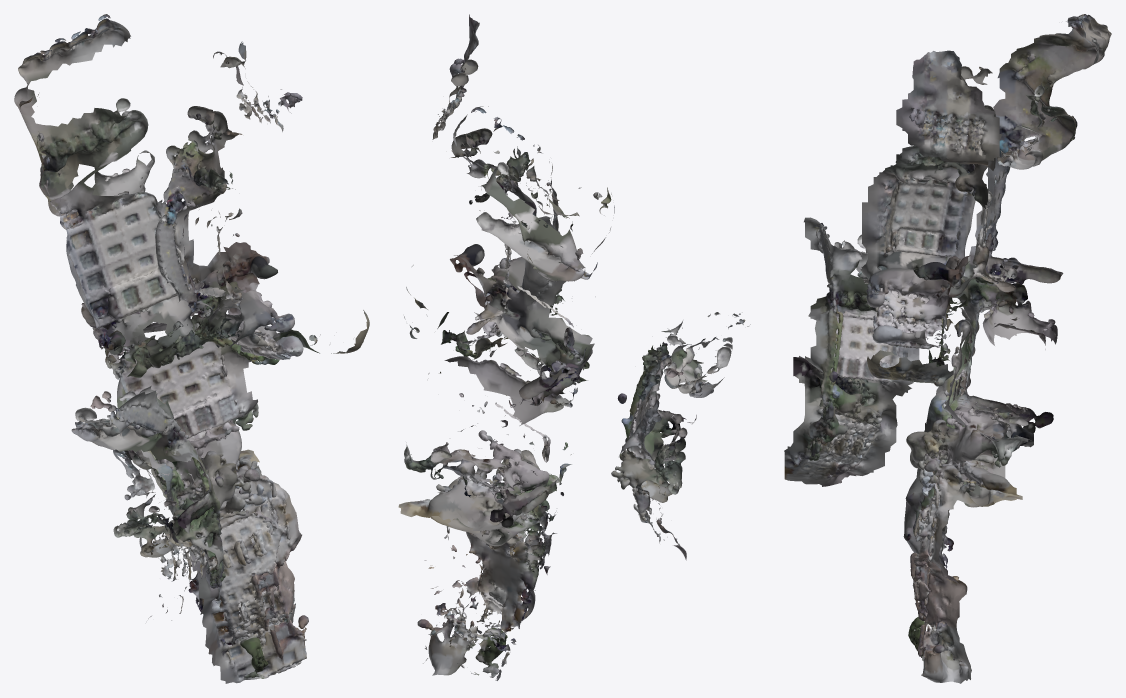
File: reconstruction_mesh.glb
3 renders of one model, left to right at view 1: azimuth 30°, elevation 25°; view 2: azimuth 150°, elevation 25°; view 3: azimuth 270°, elevation 25°, orthographic. The views are drawn at different scales.
Parts seen in each view (by area): view 1: world; view 2: world; view 3: world.
Boxes of the visible parts, bbox=[...] form: world: bbox=[14, 14, 369, 683]; world: bbox=[398, 14, 750, 680]; world: bbox=[784, 14, 1111, 683].
Size of the model in its own units: 43.53 by 88.89 by 42.86.
